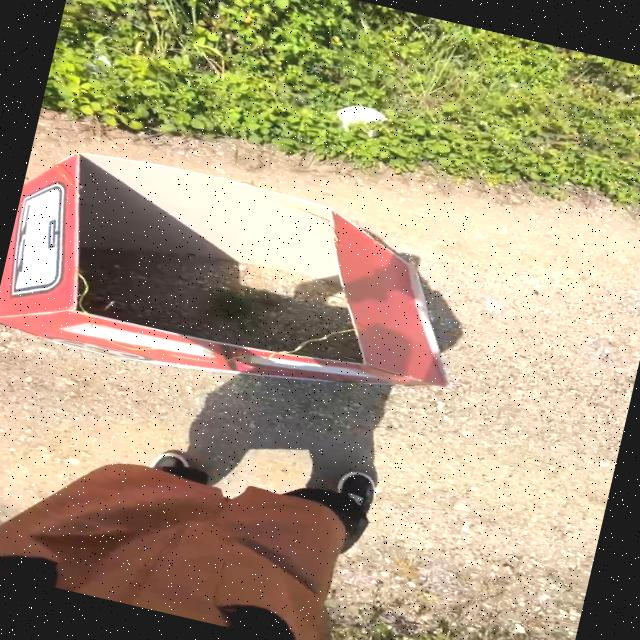red_car: (0, 119, 557, 460)
